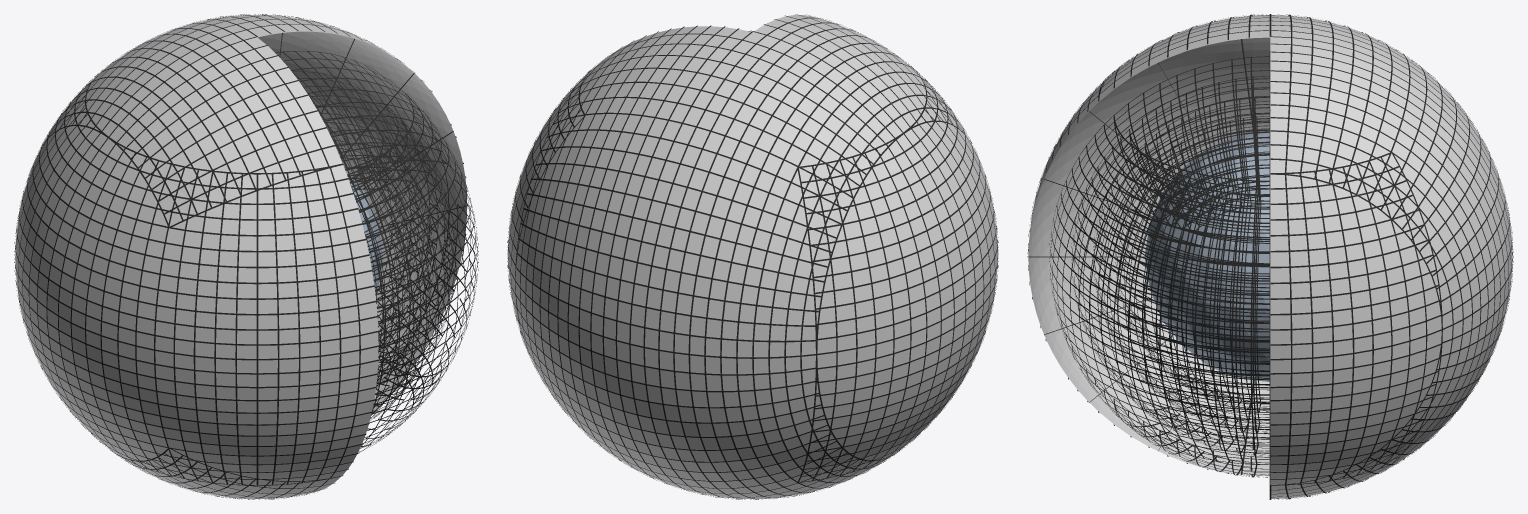
File: YinYang_grid_3D_cutaway.glb
3 views of the same model, side by side, from view 1: azimuth 30°, elevation 25°; view 2: azimuth 150°, elevation 25°; view 3: azimuth 270°, elevation 25° (orthographic).
Size of the model in its own units: 1 by 1 by 1.
